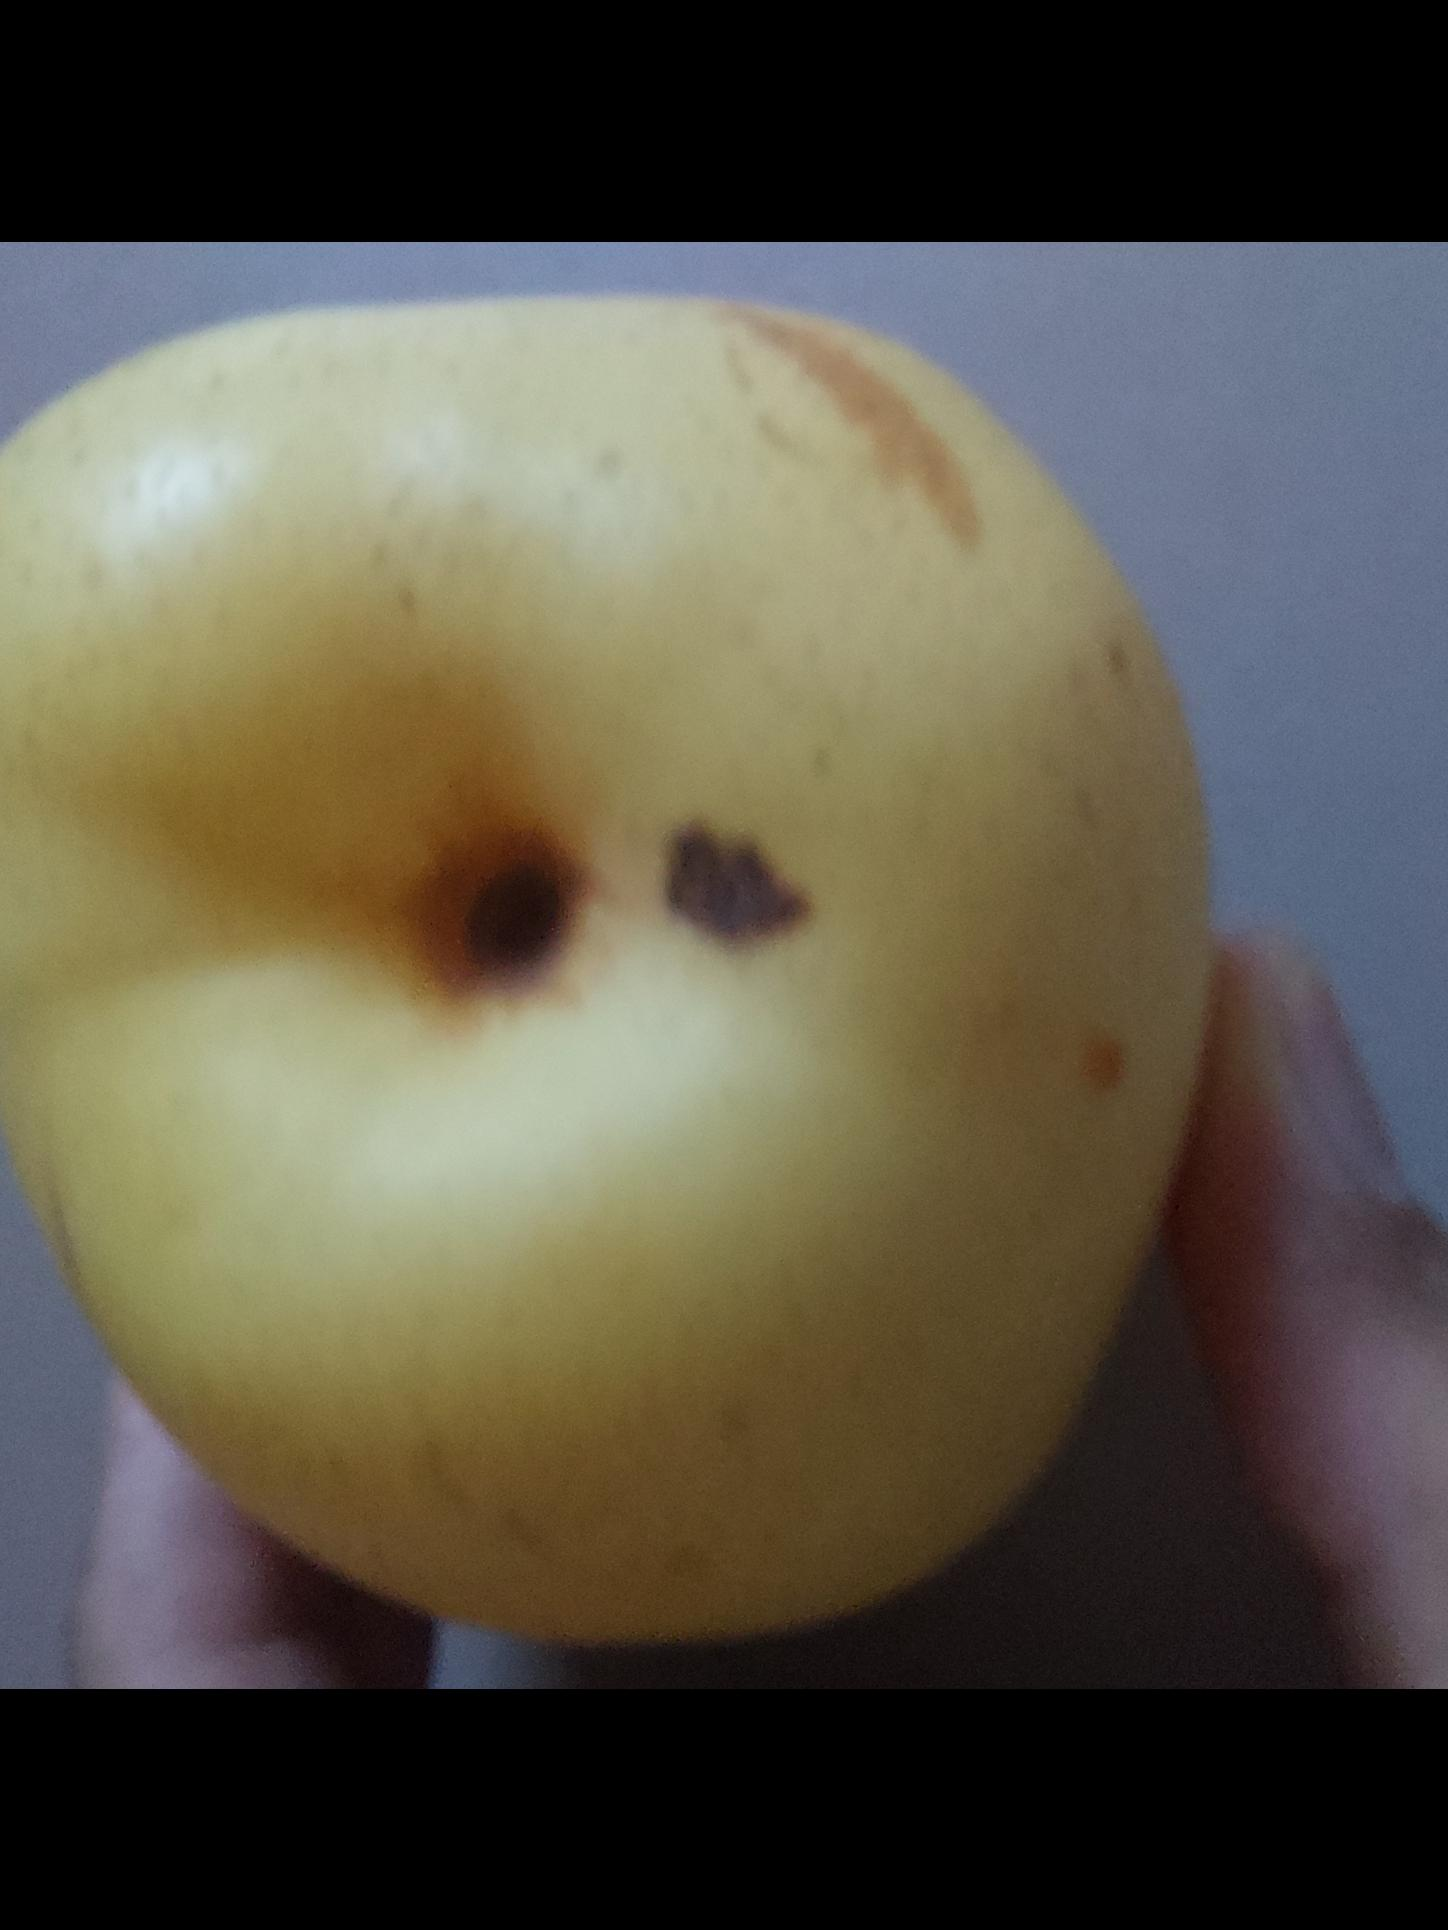Good Pear: (0, 289, 1223, 1615)
